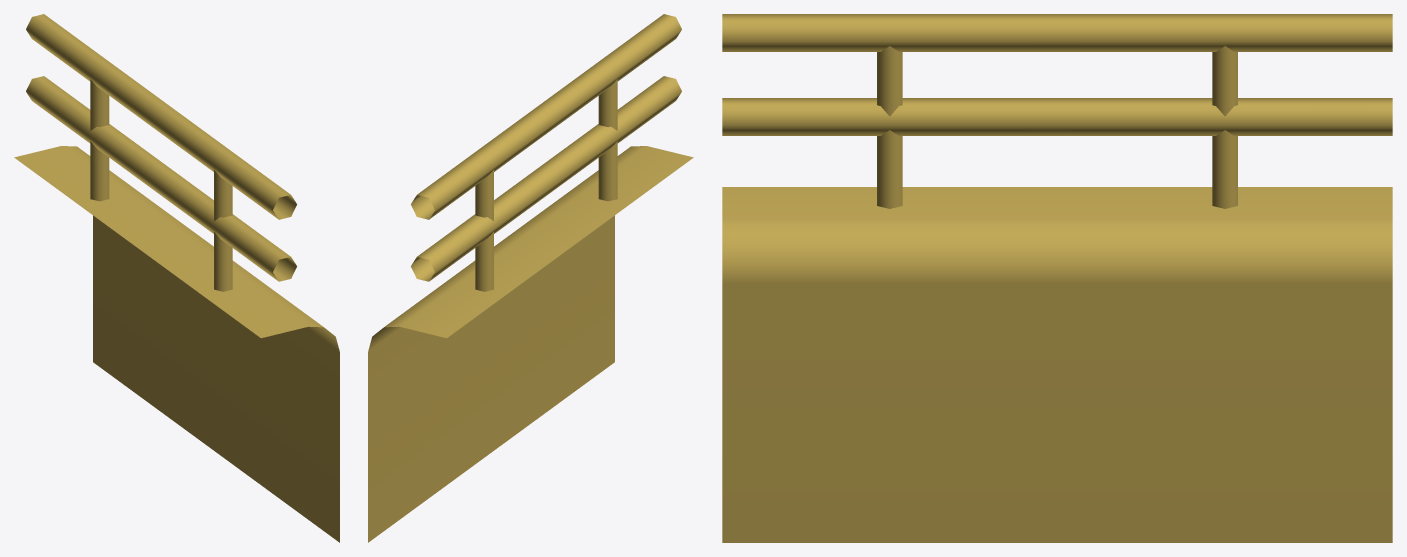
Rendered from Dock barriers 1.fbx.
3 renders of one model, left to right at view 1: azimuth 30°, elevation 25°; view 2: azimuth 150°, elevation 25°; view 3: azimuth 270°, elevation 25°, orthographic. The views are drawn at different scales.
Parts seen in each view (by area): view 1: polySurface22; view 2: polySurface22; view 3: polySurface22.
Boxes of the visible parts, x1,y1,x2,y2 form: polySurface22: (14,14,339,542); polySurface22: (368,14,693,542); polySurface22: (722,14,1392,542).
Bounding box in the file's own units: 36.89 × 161 × 200.
